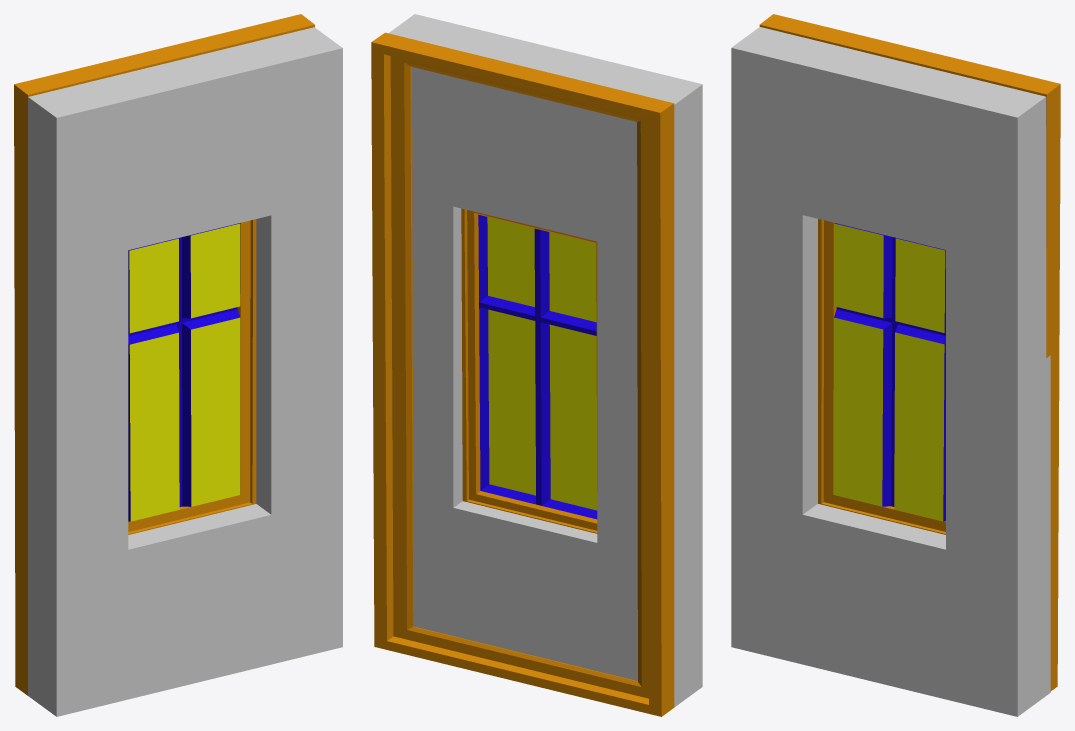
Rendered from Window Wall 01.fbx.
3 views of the same model, side by side, from view 1: azimuth 30°, elevation 25°; view 2: azimuth 150°, elevation 25°; view 3: azimuth 330°, elevation 25° (orthographic).
Visible parts, largest first — view 1: Rectangular Window Wall 02.004, Rectangular Window Design 01.002, Rectangular Window Frame Base.004, Rectangular Window Frame Base.003; view 2: Rectangular Window Wall 02.004, Rectangular Window Frame Base.004, Rectangular Window Design 01.002, Rectangular Window Frame Base.003; view 3: Rectangular Window Wall 02.004, Rectangular Window Design 01.002, Rectangular Window Frame Base.004, Rectangular Window Frame Base.003.
Part boxes in pixels (x1=…): Rectangular Window Wall 02.004: x1=28, y1=27, x2=342, y2=716; Rectangular Window Design 01.002: x1=128, y1=223, x2=240, y2=521; Rectangular Window Frame Base.004: x1=14, y1=14, x2=314, y2=695; Rectangular Window Frame Base.003: x1=128, y1=219, x2=256, y2=534; Rectangular Window Wall 02.004: x1=389, y1=14, x2=702, y2=707; Rectangular Window Frame Base.004: x1=371, y1=32, x2=674, y2=716; Rectangular Window Design 01.002: x1=478, y1=214, x2=597, y2=519; Rectangular Window Frame Base.003: x1=461, y1=208, x2=597, y2=533; Rectangular Window Wall 02.004: x1=731, y1=27, x2=1050, y2=716; Rectangular Window Design 01.002: x1=833, y1=223, x2=945, y2=521; Rectangular Window Frame Base.004: x1=759, y1=14, x2=1060, y2=691; Rectangular Window Frame Base.003: x1=818, y1=219, x2=945, y2=534.
Size of the model in its own units: 201 by 402 by 51.43.
